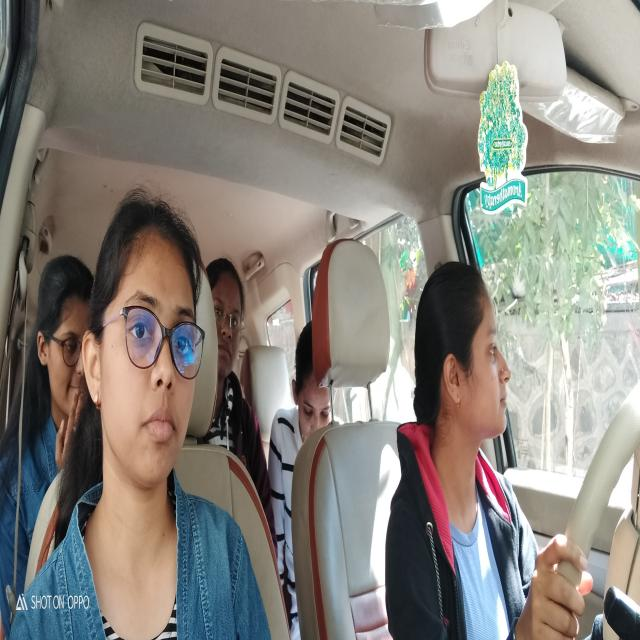LeftRight: (414, 259, 512, 446)
person: (83, 190, 201, 496), (36, 250, 93, 435), (291, 314, 333, 450), (208, 253, 247, 390)
